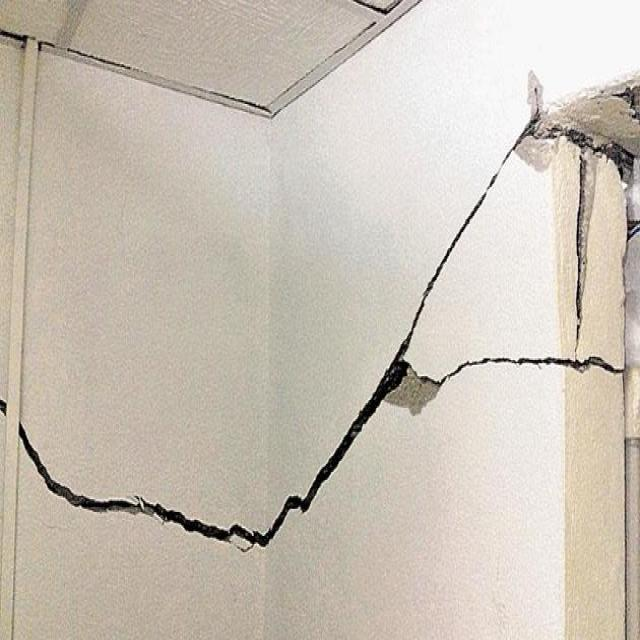crack: (20, 69, 639, 550)
